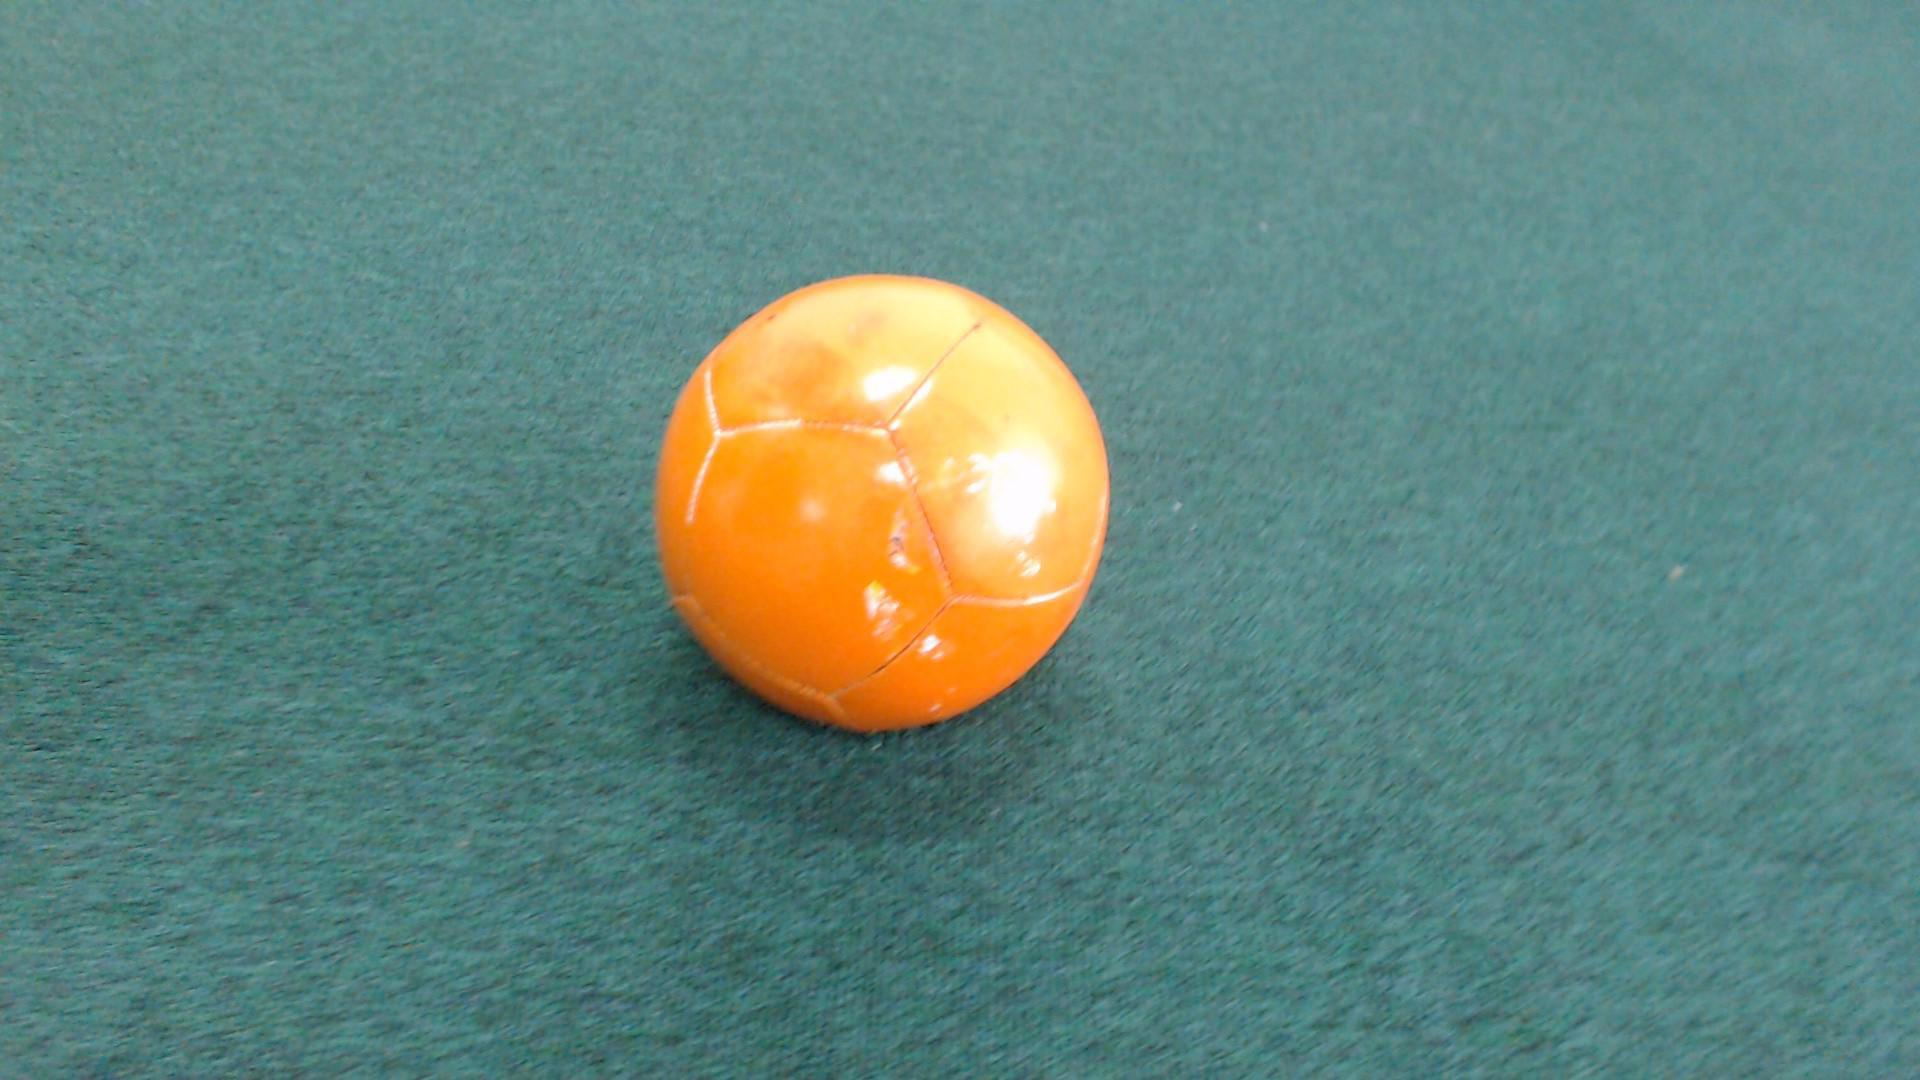bola: (618, 256, 1114, 757)
